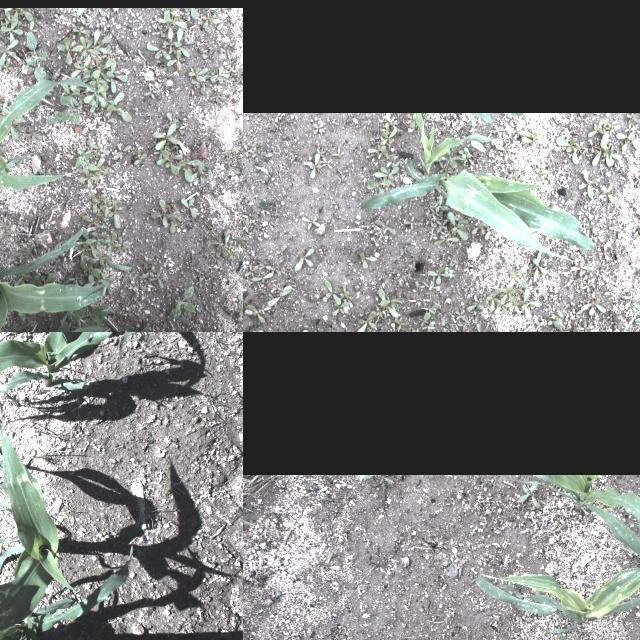crop: (360, 156, 592, 260), (475, 501, 640, 633), (0, 395, 74, 640), (0, 544, 134, 640), (0, 227, 105, 332), (0, 78, 97, 188), (0, 332, 147, 400), (514, 474, 640, 552), (414, 112, 494, 174), (20, 321, 101, 332), (40, 332, 49, 337)
weed: (49, 305, 111, 332), (25, 31, 49, 84), (46, 92, 82, 124), (193, 384, 227, 414), (555, 136, 589, 164), (588, 138, 622, 166), (168, 288, 196, 320), (433, 145, 461, 177), (586, 117, 620, 143), (378, 288, 406, 318), (440, 211, 468, 239), (576, 169, 602, 199), (615, 122, 640, 152), (106, 59, 128, 93), (152, 199, 178, 227), (57, 36, 83, 64), (265, 285, 293, 311), (156, 149, 184, 173), (504, 264, 528, 292), (516, 479, 540, 507), (79, 226, 99, 258), (522, 288, 542, 320), (152, 124, 176, 150), (0, 13, 22, 41), (244, 303, 274, 323), (349, 310, 376, 332), (30, 447, 72, 461), (208, 235, 232, 259), (164, 15, 188, 39), (82, 82, 108, 104), (521, 130, 549, 150), (528, 252, 548, 280), (581, 294, 607, 314), (178, 160, 200, 182), (505, 119, 527, 141), (91, 28, 111, 52), (330, 293, 350, 317), (294, 247, 314, 271), (0, 38, 19, 63), (7, 114, 25, 140), (374, 162, 400, 180), (426, 266, 452, 284), (92, 57, 115, 77), (108, 200, 124, 228), (86, 234, 114, 250), (177, 28, 193, 56), (77, 168, 99, 188), (80, 260, 100, 282), (598, 182, 618, 204), (167, 111, 185, 135), (106, 103, 130, 121), (323, 280, 341, 304), (100, 92, 126, 108), (338, 282, 354, 308), (366, 180, 390, 197), (141, 260, 161, 280), (374, 218, 396, 235), (308, 152, 322, 178), (70, 57, 90, 75), (500, 286, 520, 304), (323, 550, 341, 570), (367, 142, 389, 158), (570, 260, 592, 276), (359, 250, 378, 268), (493, 296, 512, 314), (89, 158, 109, 175), (360, 474, 394, 484), (9, 7, 35, 20), (207, 332, 233, 345), (63, 81, 79, 102), (486, 287, 500, 311), (148, 508, 164, 528), (204, 66, 230, 78), (495, 142, 517, 156), (75, 148, 92, 166), (429, 195, 448, 211), (82, 36, 98, 54), (94, 270, 110, 288), (384, 114, 400, 132), (379, 128, 397, 144), (528, 494, 546, 510), (182, 196, 195, 218), (138, 254, 158, 268), (148, 44, 168, 58), (300, 215, 320, 229), (509, 294, 523, 314), (404, 215, 421, 231), (623, 292, 640, 308), (89, 144, 111, 156), (90, 252, 112, 264), (466, 300, 488, 312), (530, 167, 550, 180), (20, 417, 46, 427), (471, 219, 487, 235), (150, 270, 164, 288), (90, 73, 104, 91), (100, 89, 118, 103), (22, 128, 42, 140), (188, 67, 208, 79), (250, 272, 274, 282), (434, 235, 458, 245), (107, 232, 117, 255), (11, 248, 34, 258), (114, 145, 130, 159), (143, 84, 159, 98), (167, 50, 181, 66), (394, 316, 408, 332), (418, 311, 432, 327), (456, 144, 470, 160), (202, 10, 214, 28), (264, 264, 282, 276), (243, 508, 255, 526), (554, 631, 578, 640), (228, 341, 243, 355), (406, 112, 419, 128), (550, 322, 570, 332), (102, 195, 111, 217), (212, 17, 230, 28), (163, 34, 177, 48), (312, 120, 326, 134), (198, 160, 206, 184), (134, 149, 146, 165), (38, 274, 54, 286), (514, 168, 526, 184), (54, 237, 68, 250), (577, 319, 591, 332), (72, 25, 90, 35), (243, 264, 258, 276), (625, 112, 640, 124), (322, 154, 333, 170), (185, 7, 198, 20), (72, 11, 86, 23), (450, 317, 462, 331), (435, 218, 447, 232), (483, 228, 497, 240), (154, 396, 168, 408), (84, 216, 100, 226), (422, 280, 442, 288), (421, 320, 434, 332), (243, 142, 253, 157), (118, 236, 130, 248), (20, 236, 32, 248), (234, 230, 243, 246), (332, 146, 344, 158), (104, 159, 118, 169), (0, 99, 10, 113), (212, 91, 226, 101), (456, 308, 466, 322), (378, 122, 389, 134), (220, 7, 233, 17), (425, 215, 435, 228), (200, 78, 208, 94), (219, 47, 231, 57), (98, 530, 110, 540), (0, 13, 7, 30), (2, 61, 15, 70), (139, 328, 167, 332), (28, 19, 36, 33), (154, 65, 168, 73), (78, 247, 89, 257), (97, 117, 115, 123), (238, 145, 243, 165), (237, 295, 243, 311), (175, 478, 183, 489), (475, 323, 484, 332), (18, 332, 27, 341), (95, 7, 105, 15), (92, 192, 96, 212), (158, 77, 166, 86), (164, 7, 176, 13), (81, 138, 92, 144), (238, 303, 243, 316), (77, 7, 85, 15), (208, 225, 222, 229), (251, 328, 264, 332), (240, 129, 243, 145), (171, 87, 179, 93), (142, 224, 148, 230), (130, 18, 136, 24), (154, 514, 160, 520), (634, 561, 640, 567), (190, 329, 200, 332), (470, 578, 476, 582), (498, 639, 504, 640)
